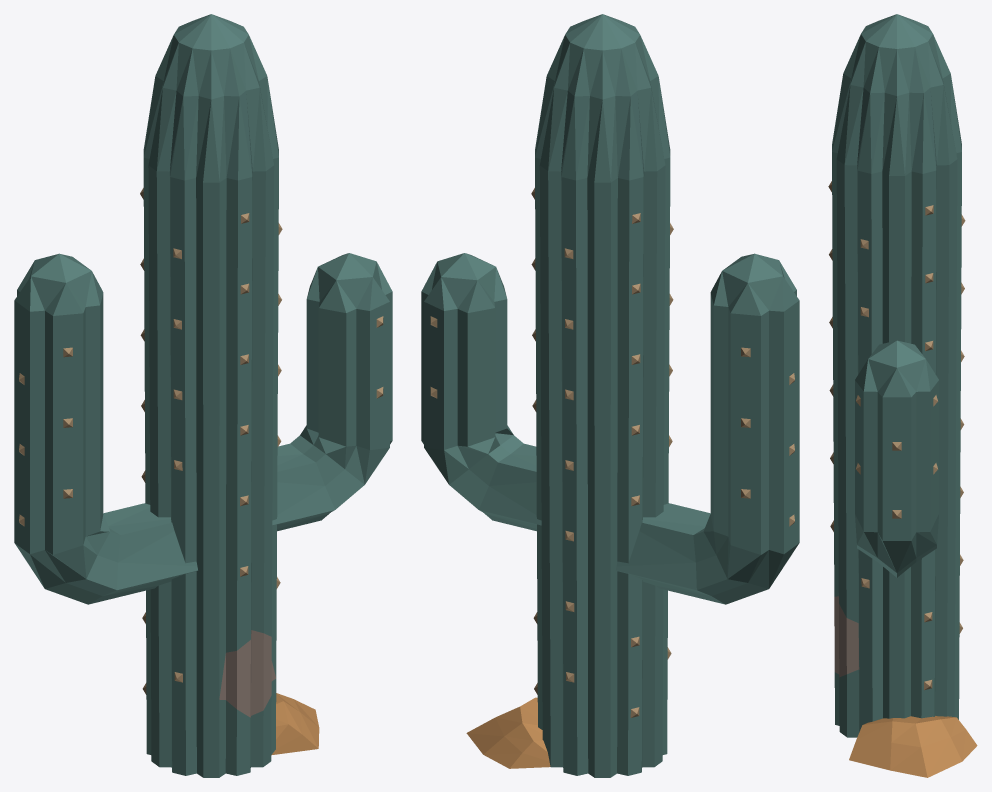
The model's file is saguaro-cactus-8b588d.glb.
The picture shows the model from 3 angles, left to right: view 1: azimuth 30°, elevation 25°; view 2: azimuth 150°, elevation 25°; view 3: azimuth 270°, elevation 25°; orthographic projection. The views are drawn at different scales.
Parts seen in each view (by area): view 1: saguaro-body; view 2: saguaro-body; view 3: saguaro-body.
Part boxes in pixels (x1,y1,x2,y2): saguaro-body: (14, 14, 392, 777); saguaro-body: (421, 14, 799, 777); saguaro-body: (828, 14, 977, 777).
Size of the model in its own units: 2.62 by 5 by 0.9556.
